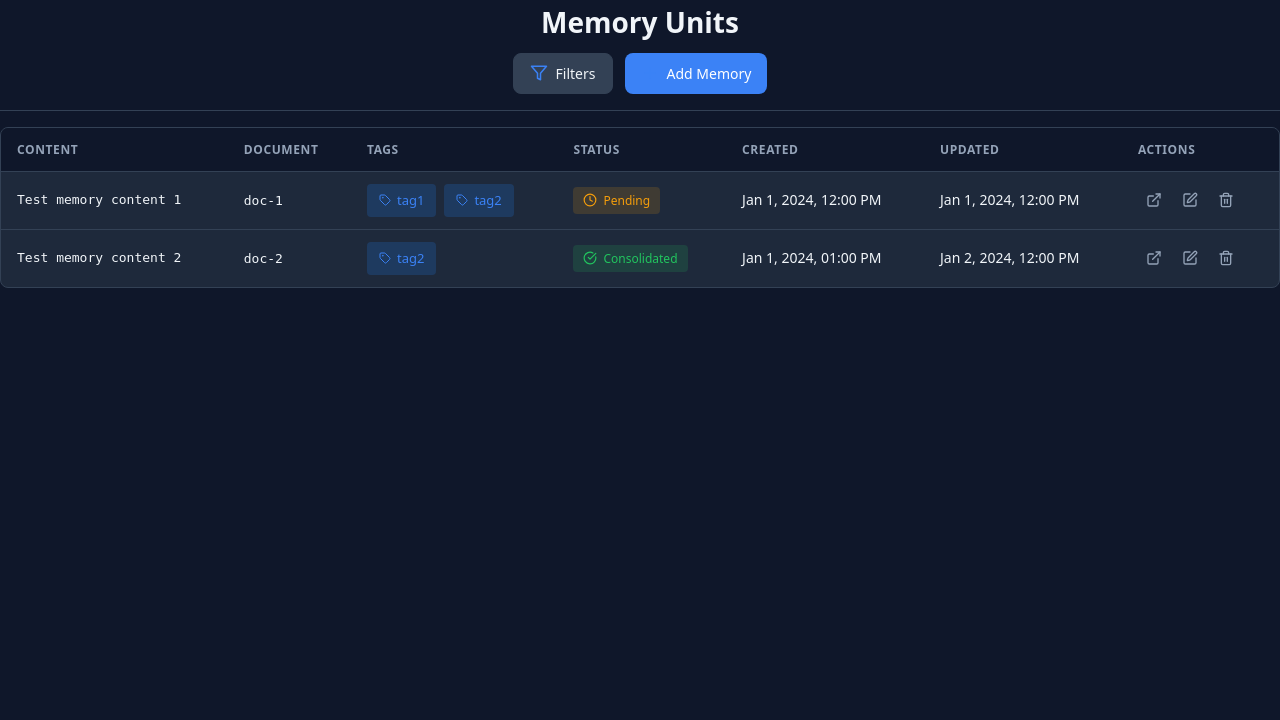
Test case: MemoryListPage › opens create form when Add Memory button clicked
expect the text "Add Memory" is shown: met, box top-left (666, 64), bottom-right (751, 83)
Click the button "Add Memory" at (696, 73), box top-left (624, 53), bottom-right (767, 94)
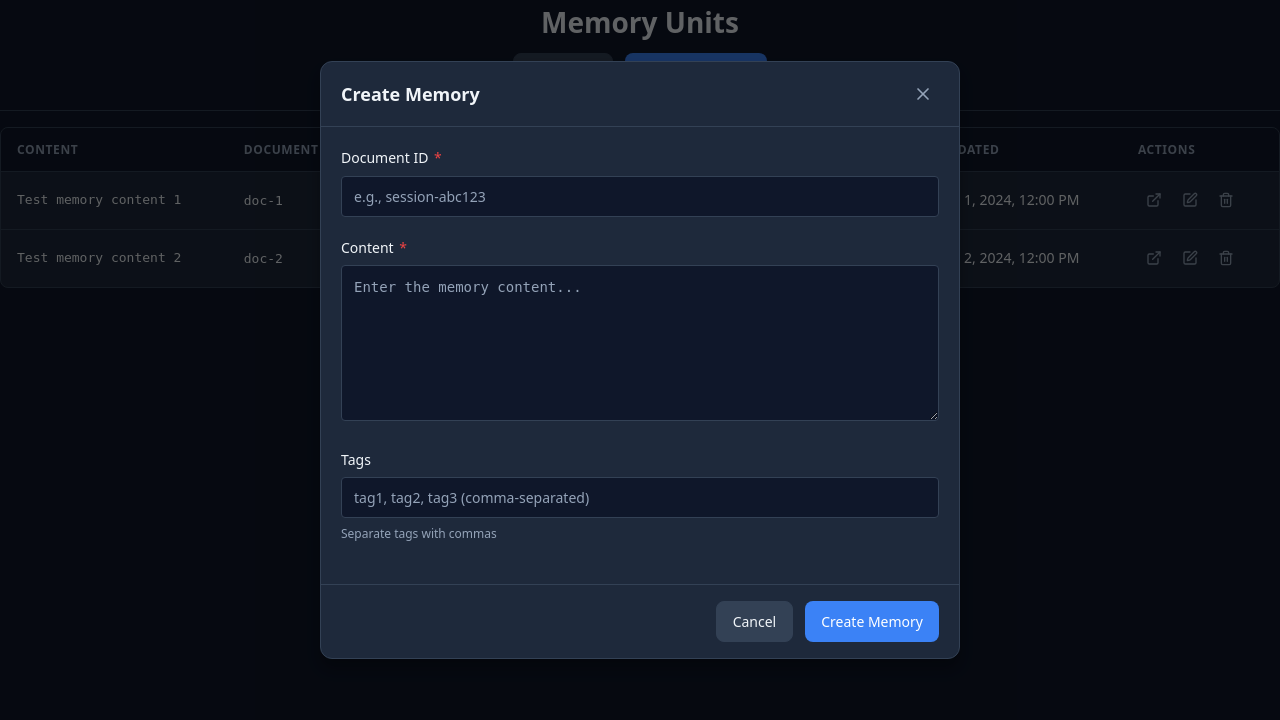
expect the heading "Create Memory" is shown: met, box top-left (341, 80), bottom-right (480, 109)
expect the field labelled "Document ID *" is shown: met, box top-left (341, 176), bottom-right (939, 217)
expect the text box labelled "Content *" is shown: met, box top-left (341, 265), bottom-right (939, 421)
